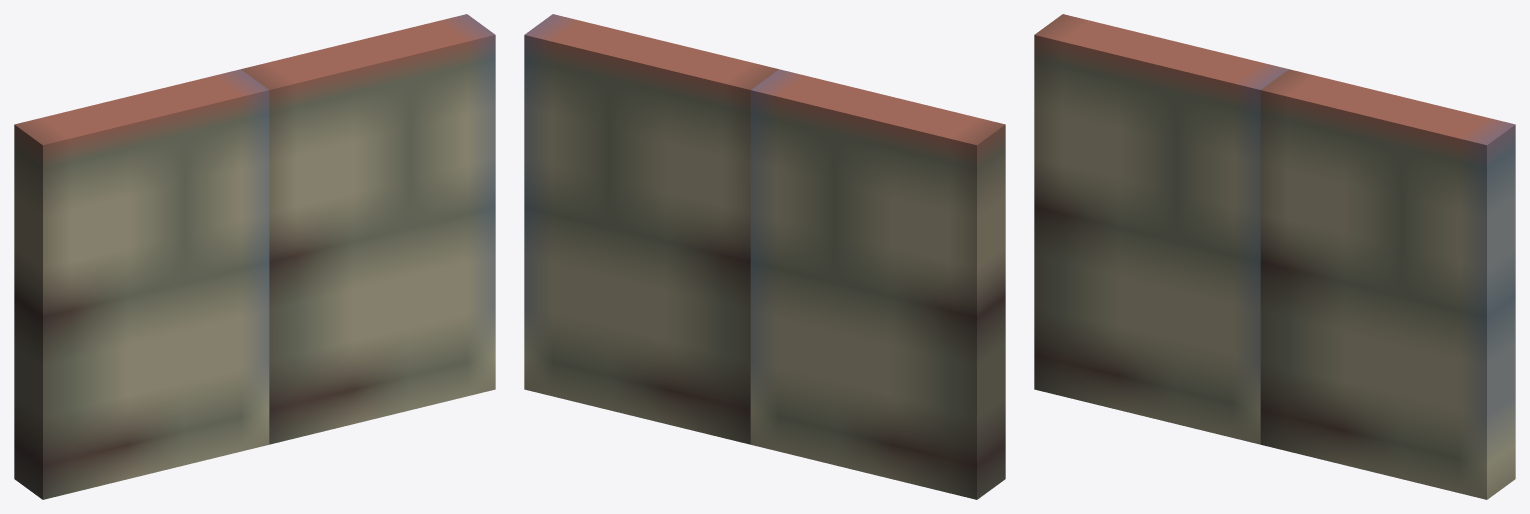
File: breakableWall_remade.fbx
3 renders of one model, left to right at view 1: azimuth 30°, elevation 25°; view 2: azimuth 150°, elevation 25°; view 3: azimuth 330°, elevation 25°, orthographic.
Visible parts, largest first — view 1: Wall1.045, Wall1.046, Wall1.044, Wall1.043, Wall1.047, Wall1.048; view 2: Wall1.045, Wall1.046, Wall1.044, Wall1.043, Wall1.047, Wall1.048; view 3: Wall1.046, Wall1.045, Wall1.047, Wall1.048, Wall1.044, Wall1.043.
Part boxes in pixels (x1,y1,x2,y2): Wall1.045: (14, 69, 269, 272); Wall1.046: (241, 14, 495, 217); Wall1.044: (14, 218, 269, 387); Wall1.043: (14, 333, 269, 499); Wall1.047: (269, 162, 495, 332); Wall1.048: (269, 277, 495, 444); Wall1.045: (750, 69, 1005, 272); Wall1.046: (524, 14, 778, 217); Wall1.044: (750, 218, 1005, 387); Wall1.043: (750, 333, 1005, 499); Wall1.047: (524, 162, 750, 332); Wall1.048: (524, 277, 750, 444); Wall1.046: (1260, 69, 1515, 272); Wall1.045: (1034, 14, 1288, 217); Wall1.047: (1260, 218, 1515, 387); Wall1.048: (1260, 333, 1515, 499); Wall1.044: (1034, 162, 1260, 332); Wall1.043: (1034, 277, 1260, 444).
Bounding box in the file's own units: 200 × 150 × 21.82.
